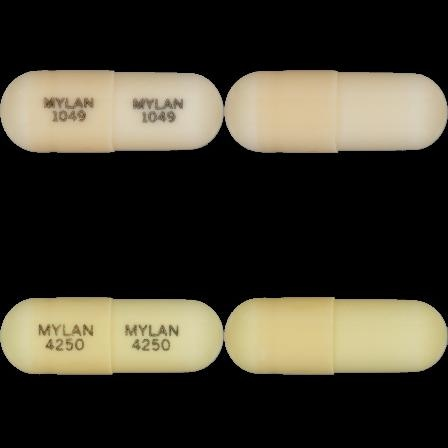51079-436: (0, 0, 224, 224)
